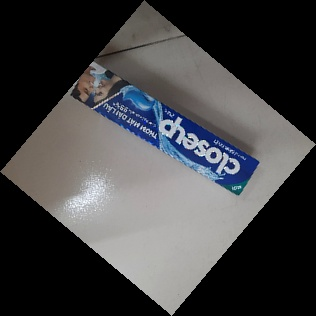CloseUp Tuyet: (67, 58, 260, 197)
